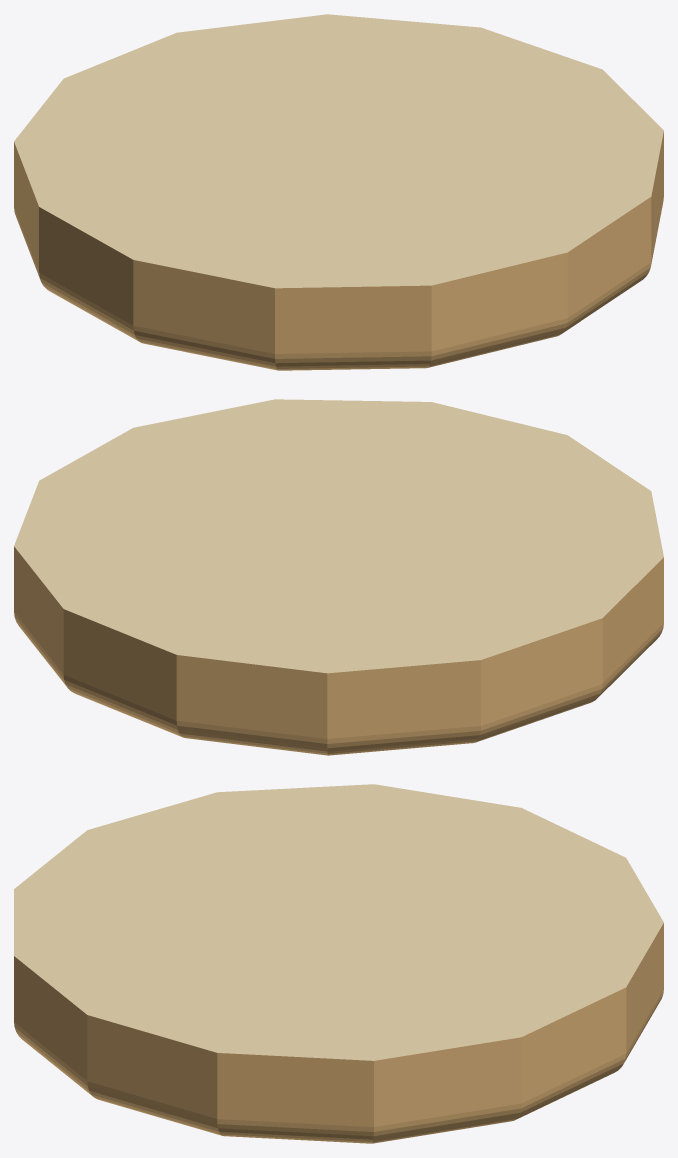
File: Bun Bottom.fbx
3 renders of one model, top to bottom at view 1: azimuth 30°, elevation 25°; view 2: azimuth 150°, elevation 25°; view 3: azimuth 270°, elevation 25°, orthographic.
Visible parts, largest first — view 1: Bottom Bun; view 2: Bottom Bun; view 3: Bottom Bun.
Boxes of the visible parts, box(x1,y1,x2,y2) form: Bottom Bun: box(14, 14, 663, 370); Bottom Bun: box(14, 399, 663, 755); Bottom Bun: box(14, 784, 663, 1143).
Size of the model in its own units: 199 by 31 by 197.
